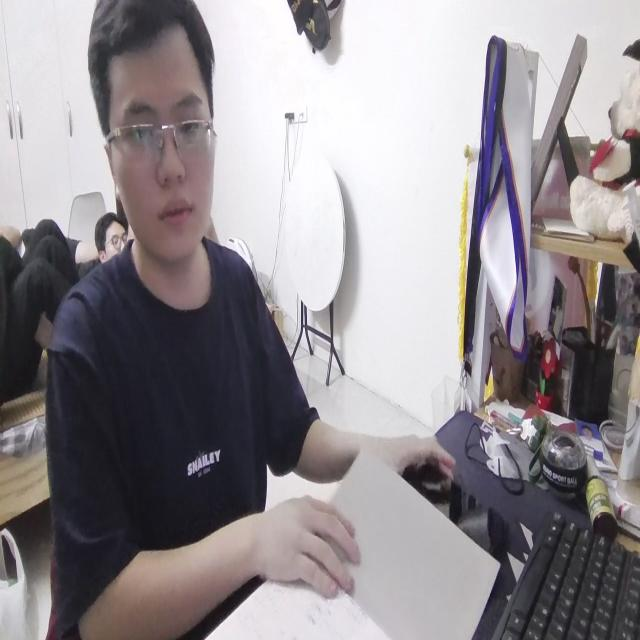book: (189, 444, 497, 640)
phone: (404, 444, 504, 578)
